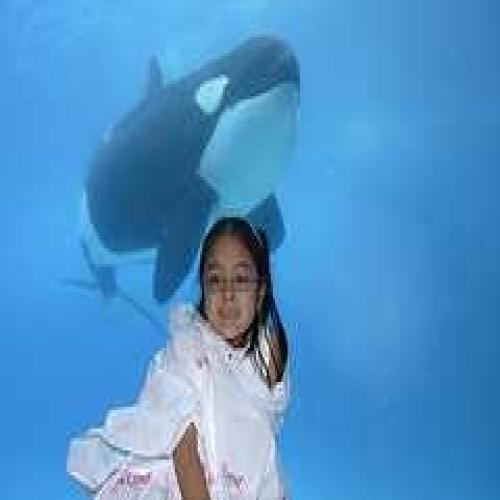killer_whale-endangered: (66, 17, 322, 286)
